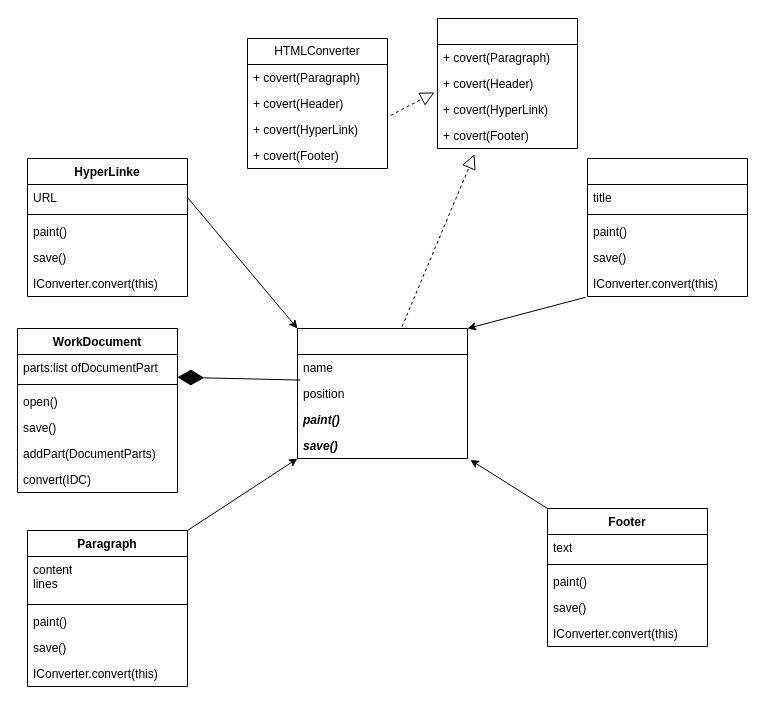
Image size: 765x707. Some labels were removed from this diagram. The box of each missing label's shape, as (x1, y1, x2, y2) in pixels:
<<<Interface>>> IConverter: (436, 18, 578, 148)
DocumentParts: (296, 328, 468, 458)
Header: (586, 158, 748, 296)
